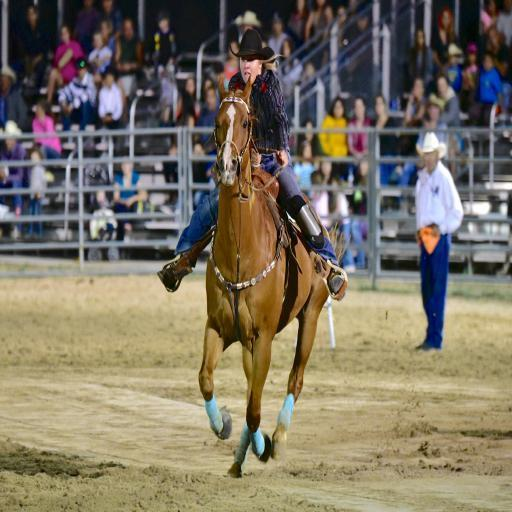horse: (195, 72, 355, 476)
